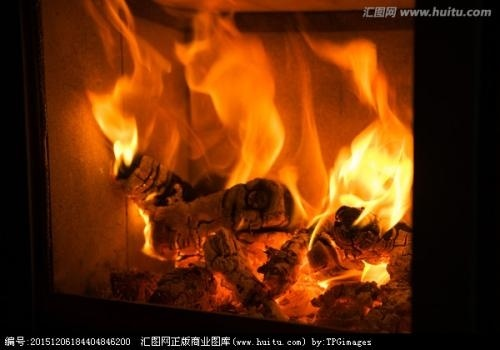fire: (77, 0, 299, 189), (301, 31, 416, 229), (133, 198, 160, 259), (359, 255, 391, 284)
